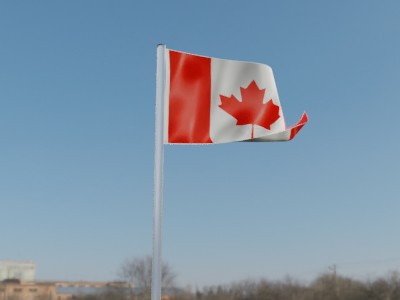Canada flag: (163, 48, 311, 146)
